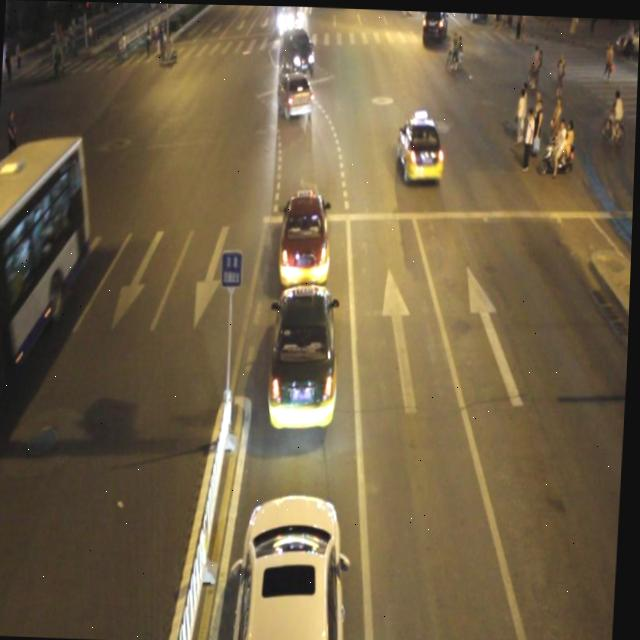car: (231, 483, 357, 640), (266, 278, 345, 429), (276, 186, 336, 284), (394, 114, 444, 180), (276, 68, 314, 116), (281, 24, 316, 71), (421, 9, 446, 41)
van: (0, 134, 94, 429)
